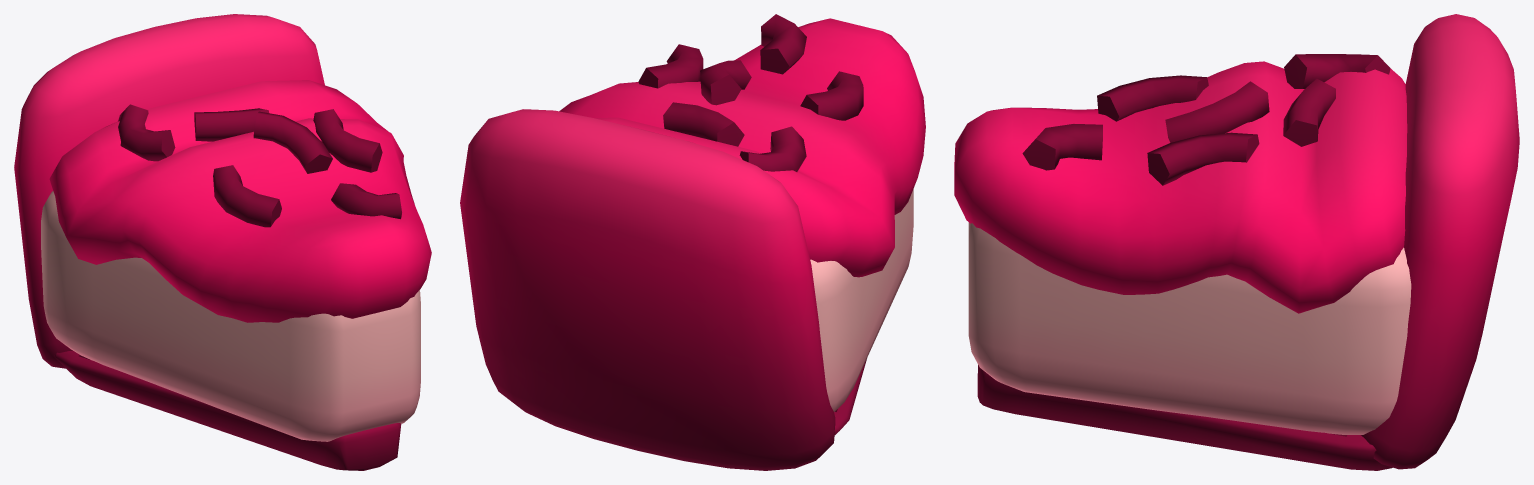
File: SM_Red.fbx
3 views of the same model, side by side, from view 1: azimuth 30°, elevation 25°; view 2: azimuth 150°, elevation 25°; view 3: azimuth 270°, elevation 25° (orthographic). The views are drawn at different scales.
Parts seen in each view (by area): view 1: Cheesecake, Cheesecake.001, topping; view 2: Cheesecake, topping, Cheesecake.001; view 3: Cheesecake, Cheesecake.001, topping.
Part boxes in pixels (x1=…): Cheesecake: x1=14, y1=14, x2=431, y2=470; Cheesecake.001: x1=41, y1=191, x2=420, y2=441; topping: x1=118, y1=104, x2=401, y2=227; Cheesecake: x1=460, y1=18, x2=925, y2=470; topping: x1=638, y1=14, x2=863, y2=171; Cheesecake.001: x1=810, y1=189, x2=913, y2=411; Cheesecake: x1=954, y1=14, x2=1519, y2=470; Cheesecake.001: x1=968, y1=222, x2=1411, y2=434; topping: x1=1022, y1=54, x2=1390, y2=185.
Bounding box in the file's own units: 0.5082 × 0.4239 × 0.633.
1 material, 1 textured.
